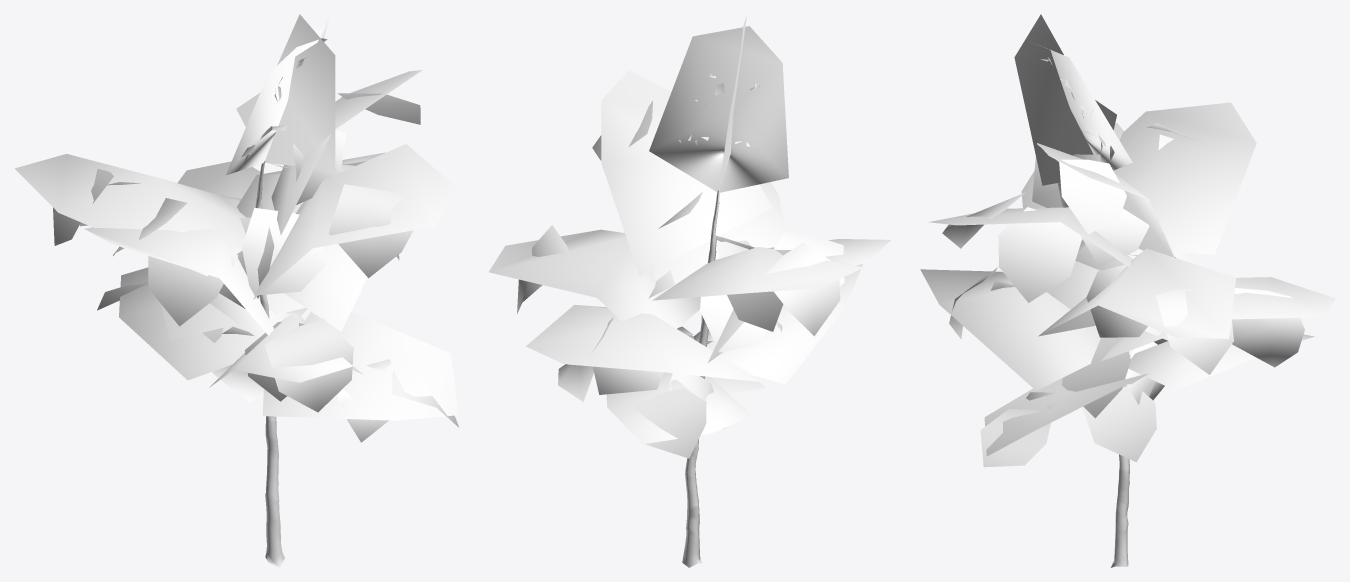
File: oak_small_1.glb
3 renders of one model, left to right at view 1: azimuth 30°, elevation 25°; view 2: azimuth 150°, elevation 25°; view 3: azimuth 270°, elevation 25°, orthographic. The views are drawn at different scales.
Visible parts, largest first — view 1: Small_oak_tree__001_LOD1; view 2: Small_oak_tree__001_LOD1; view 3: Small_oak_tree__001_LOD1.
Part boxes in pixels (<box>): Small_oak_tree__001_LOD1: <box>15,14,459,567</box>; Small_oak_tree__001_LOD1: <box>489,15,890,567</box>; Small_oak_tree__001_LOD1: <box>920,14,1335,567</box>.
Bounding box in the file's own units: 3.86 × 5.68 × 3.92.
2 materials, 2 textured.
